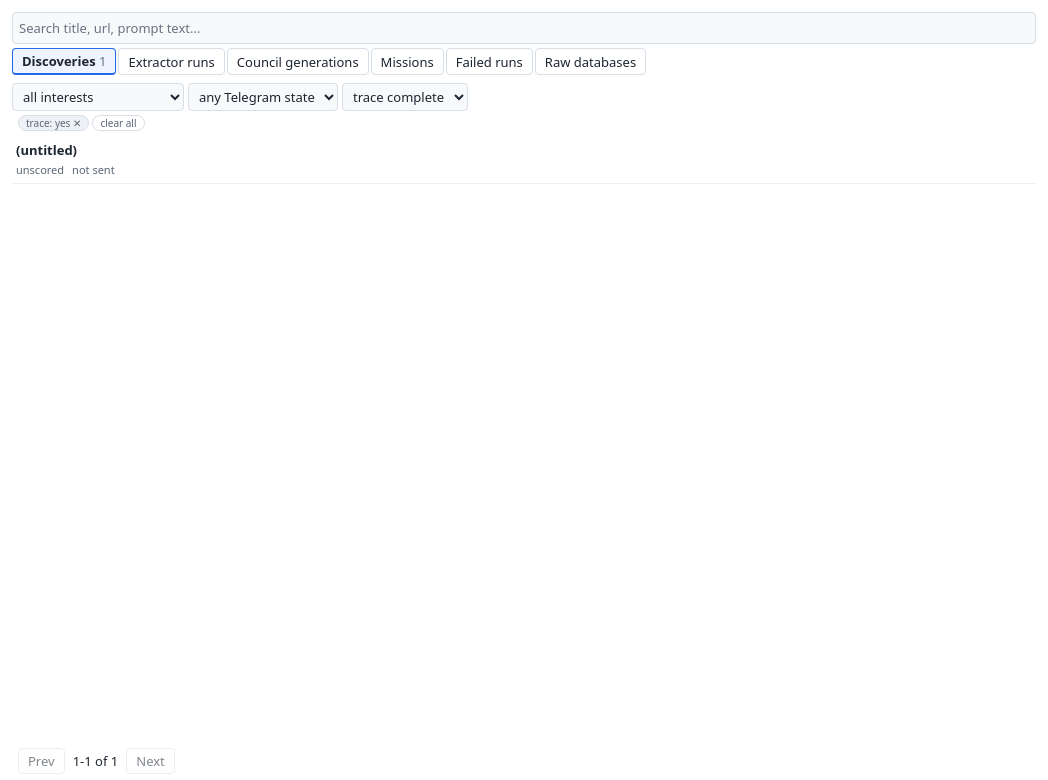
Test case: Explorer › renders extractor runs with what the run produced
Click the tab "Extractor runs" at (172, 62), box 118,48 -> 225,75
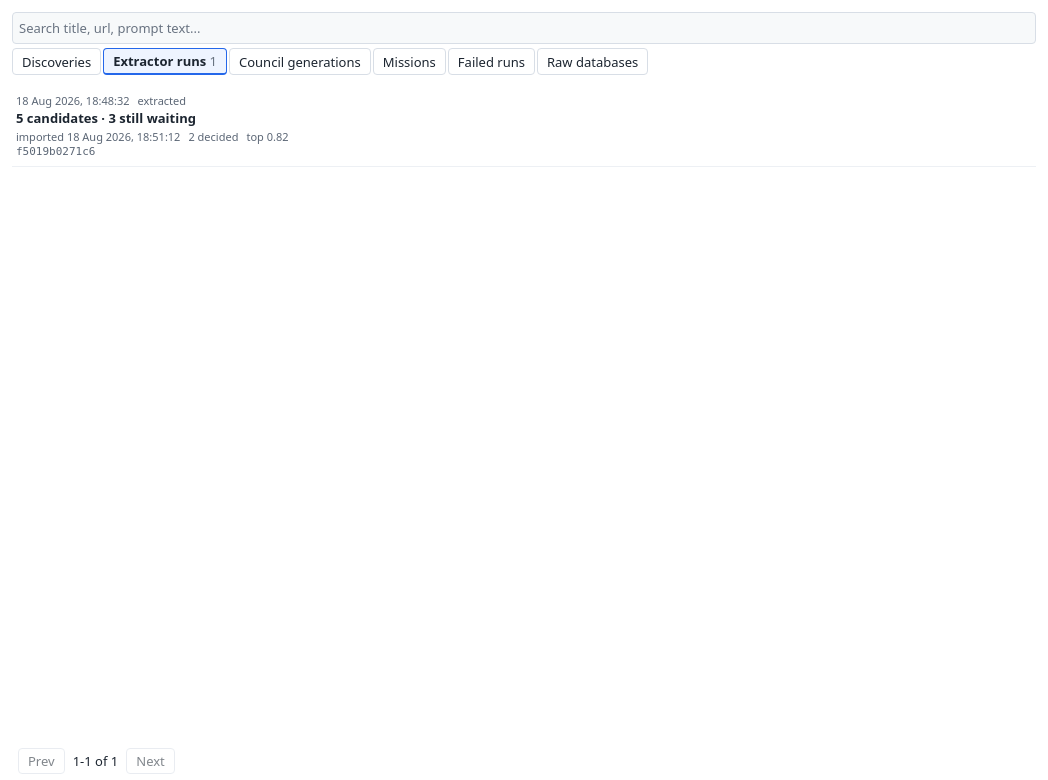
Now the text "5 candidates · 3 still waiting" is shown, box 16,109 -> 196,127
Now the text "· 3 still waiting" is shown, box 98,109 -> 196,127
Now the text "2 decided" is shown, box 188,129 -> 238,144
